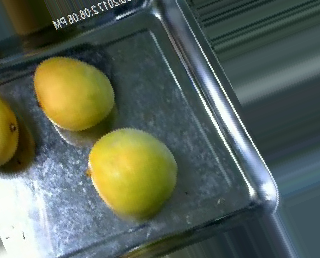Mango: (87, 126, 179, 219), (32, 58, 115, 130), (1, 93, 16, 168)
